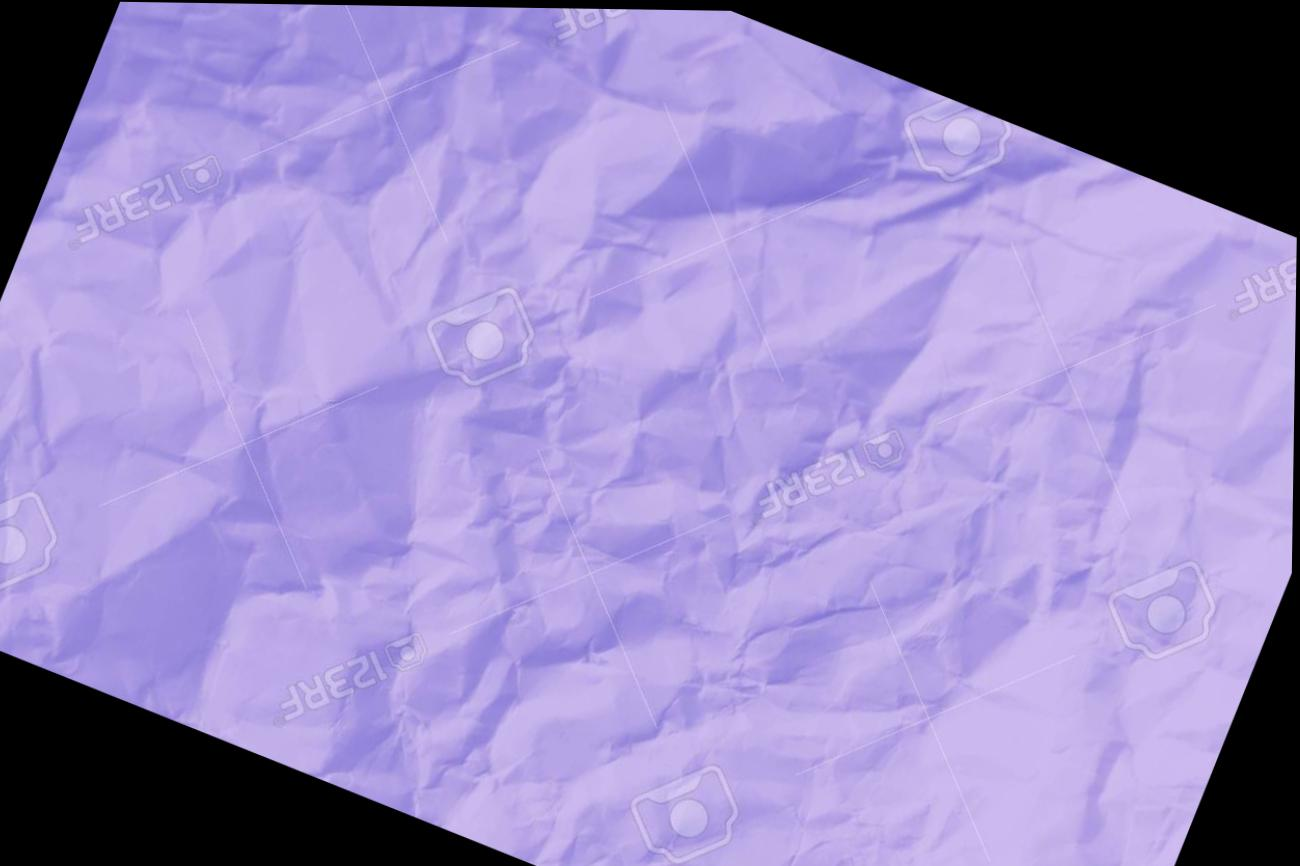paper: (0, 5, 1299, 865)
